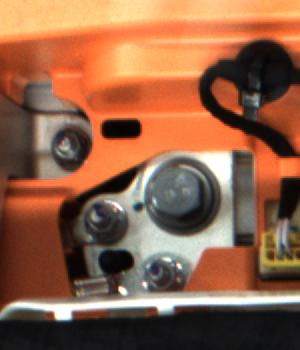nut_b: (139, 150, 228, 238)
screw_s: (41, 123, 82, 168), (137, 255, 183, 292), (83, 204, 124, 241)
